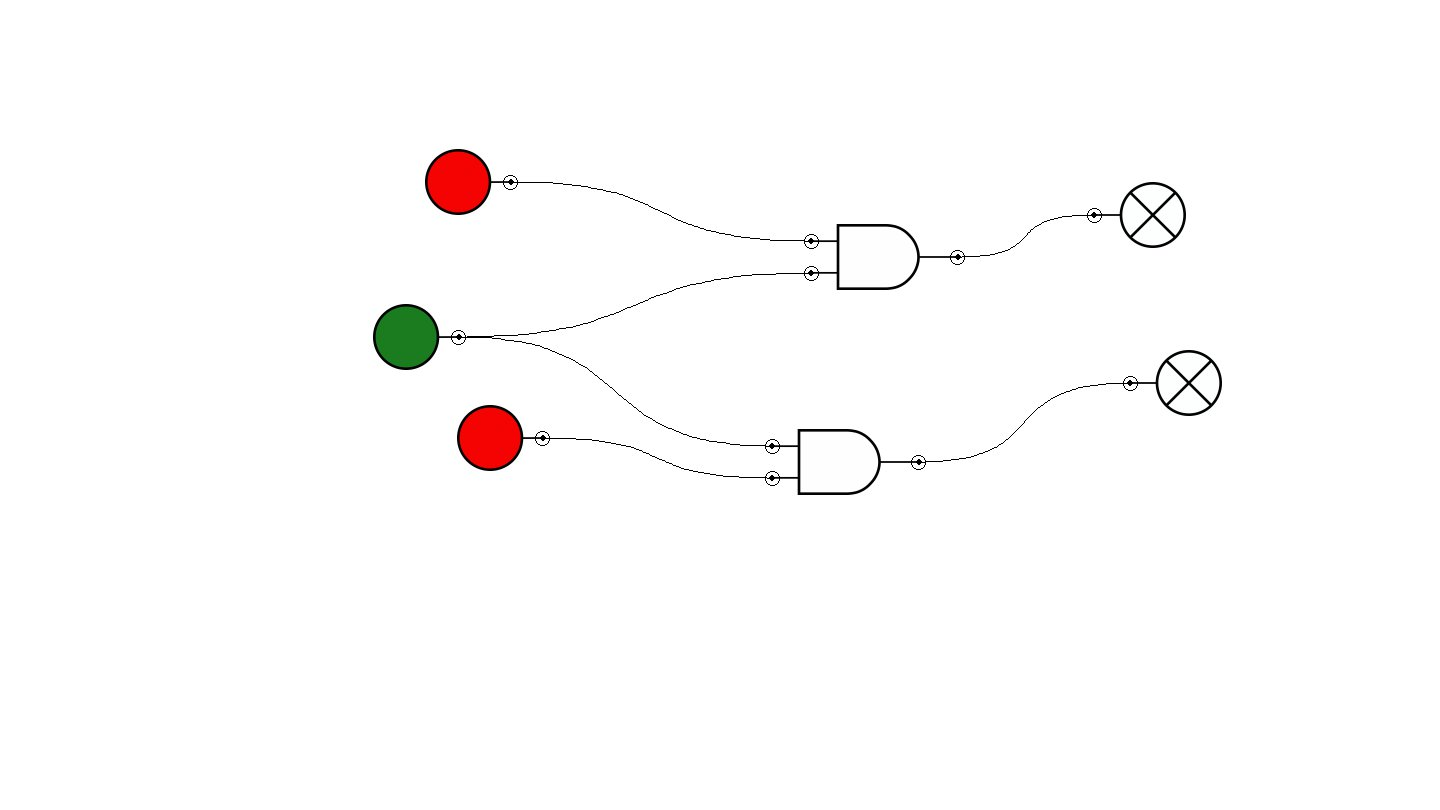and: (765, 429, 926, 495), (804, 224, 965, 290)
bulb: (1123, 350, 1222, 416), (1087, 182, 1186, 248)
switch_False: (425, 149, 518, 215), (457, 405, 550, 471)
switch_True: (373, 304, 466, 370)
